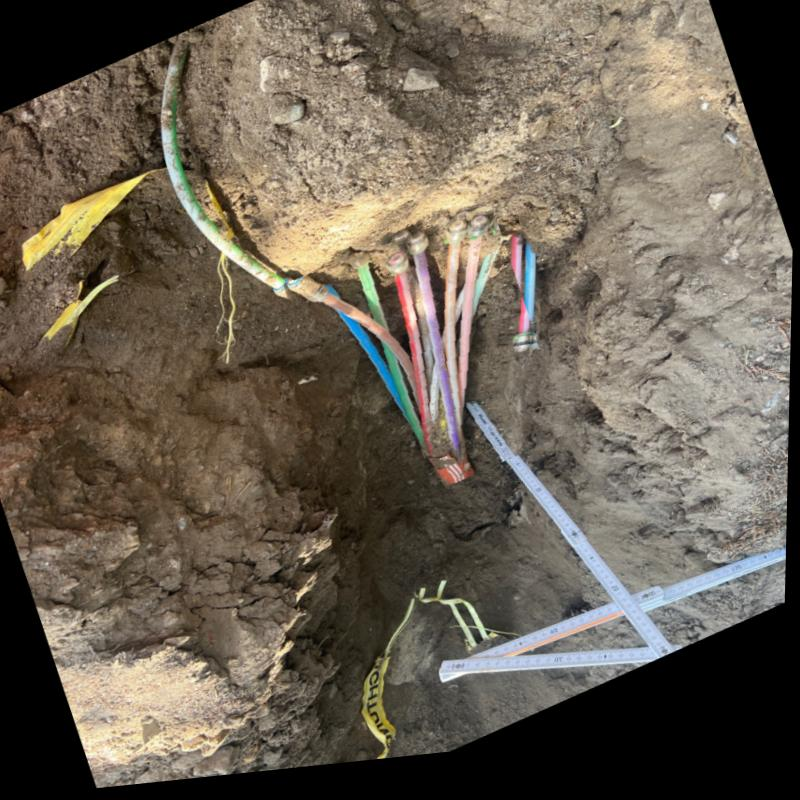Orang-Speednetrohrchen: (284, 222, 506, 493)
